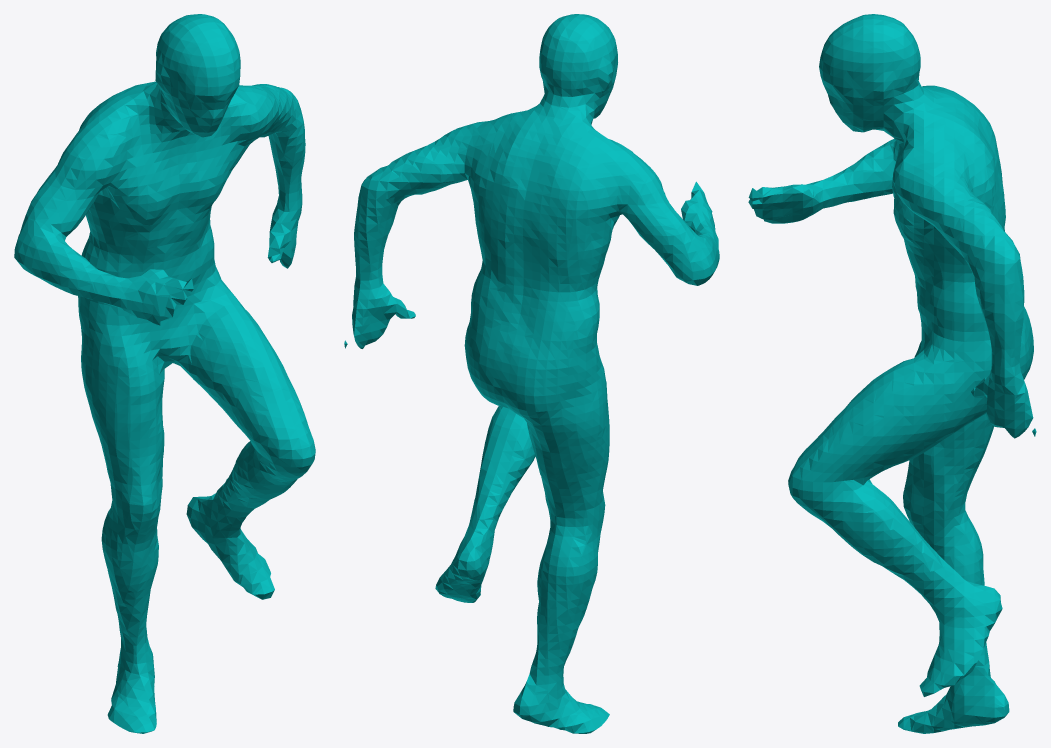
3 views of the same model, side by side, from view 1: azimuth 30°, elevation 25°; view 2: azimuth 150°, elevation 25°; view 3: azimuth 270°, elevation 25° (orthographic). The views are drawn at different scales.
Bounding box in the file's own units: 0.332 × 0.6915 × 0.2473.
